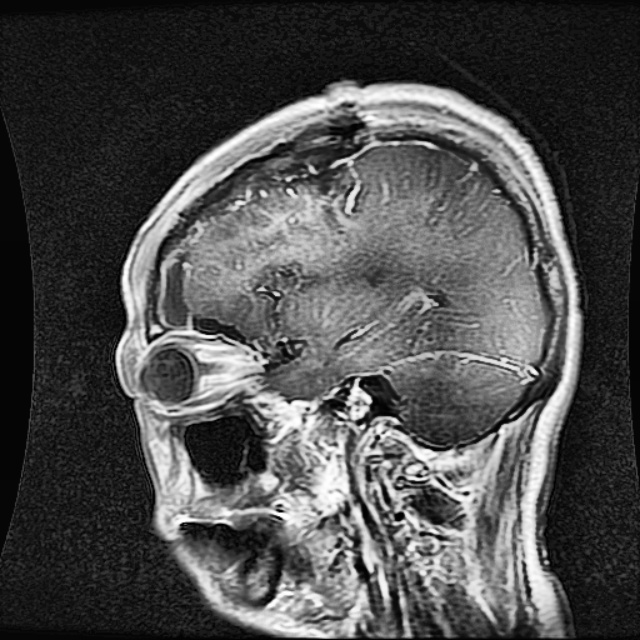Meningioma: (279, 153, 363, 190)
